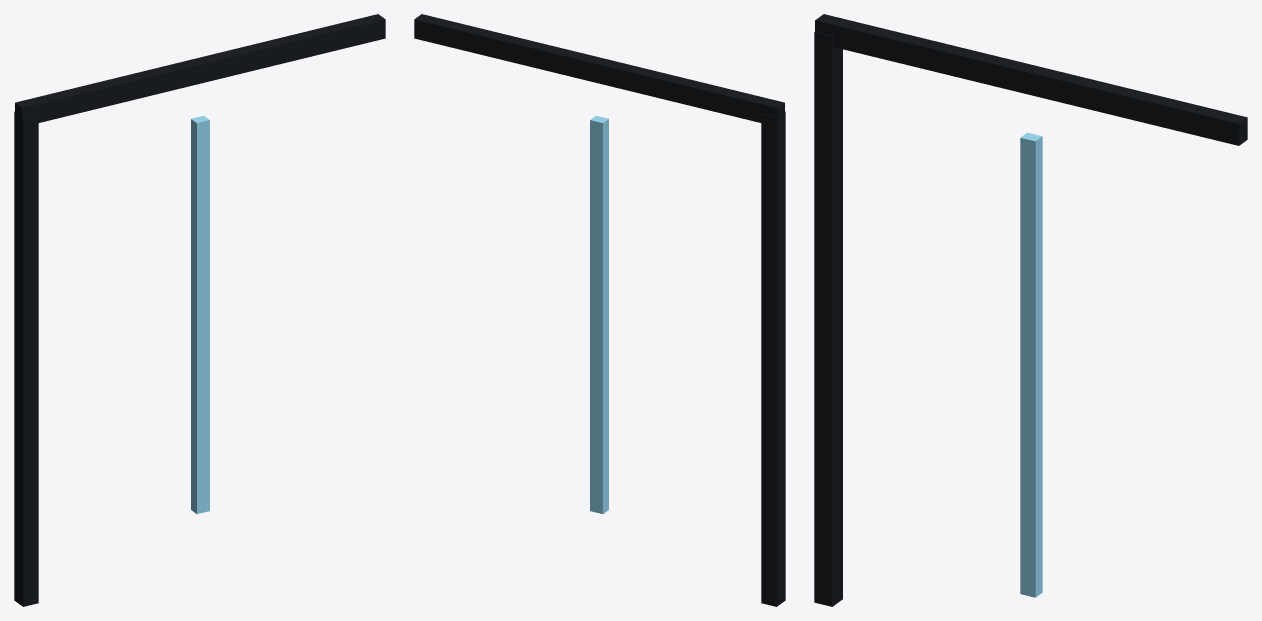
3 views of the same model, side by side, from view 1: azimuth 30°, elevation 25°; view 2: azimuth 150°, elevation 25°; view 3: azimuth 330°, elevation 25° (orthographic). The views are drawn at different scales.
Visible parts, largest first — view 1: post-a, emitter, field; view 2: post-a, emitter, field; view 3: post-a, emitter, field.
Boxes of the visible parts, bbox=[...] form: post-a: bbox=[14, 111, 38, 606]; emitter: bbox=[15, 14, 385, 122]; field: bbox=[191, 115, 209, 513]; post-a: bbox=[761, 111, 785, 606]; emitter: bbox=[414, 14, 784, 123]; field: bbox=[590, 115, 608, 513]; post-a: bbox=[814, 31, 842, 606]; emitter: bbox=[815, 14, 1247, 145]; field: bbox=[1020, 132, 1042, 597].
Size of the model in its own units: 1.4 by 1.83 by 0.06.
